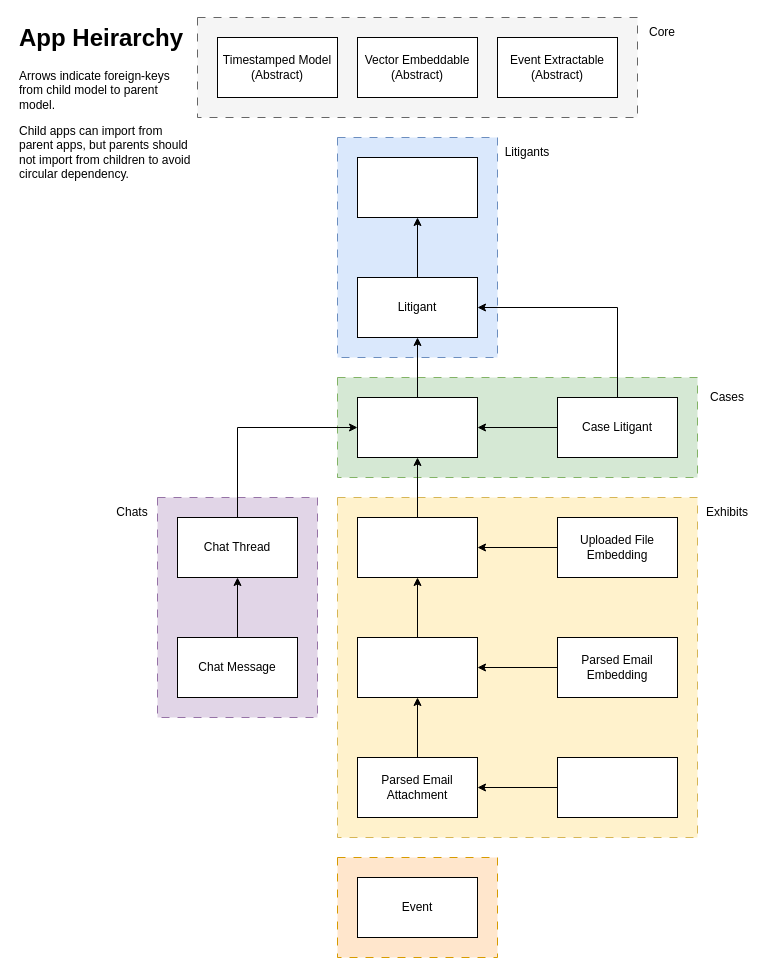
The diagram is 774 pixels wide and 975 high, and some of its shapes have lost their labels. Here are the shapes that lost their labels. From the top down, the centre of each, then its label:
At pixel 417 187: "Litigant Role".
At pixel 417 427: "Case".
At pixel 417 547: "Uploaded File".
At pixel 417 667: "Parsed Email".
At pixel 617 787: "Parsed Email Attachment Embedding".
